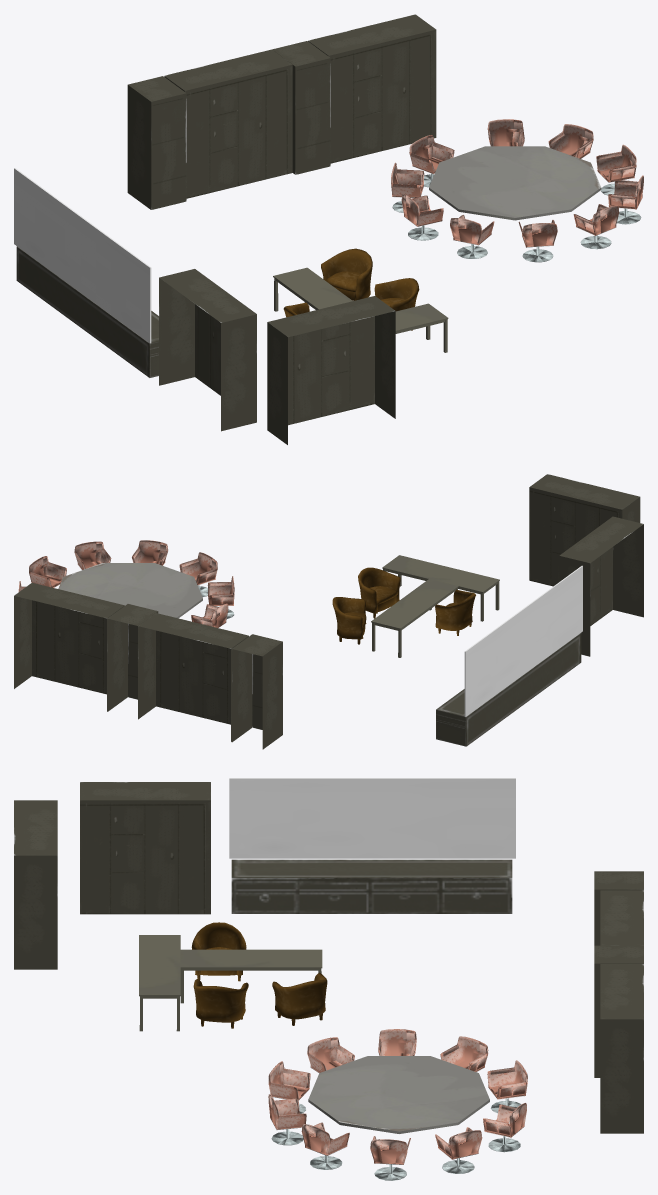
File: boss1.FBX
3 renders of one model, top to bottom at view 1: azimuth 30°, elevation 25°; view 2: azimuth 150°, elevation 25°; view 3: azimuth 270°, elevation 25°, orthographic. The views are drawn at different scales.
Visible parts, largest first — view 1: Box107; view 2: Box107; view 3: Box107.
Boxes of the visible parts, <box> form: Box107: <box>14,14,643,444</box>; Box107: <box>14,474,643,749</box>; Box107: <box>14,778,643,1180</box>.
Size of the model in its own units: 1292 by 256 by 1200.
Materials: 1 (1 with a texture image).
